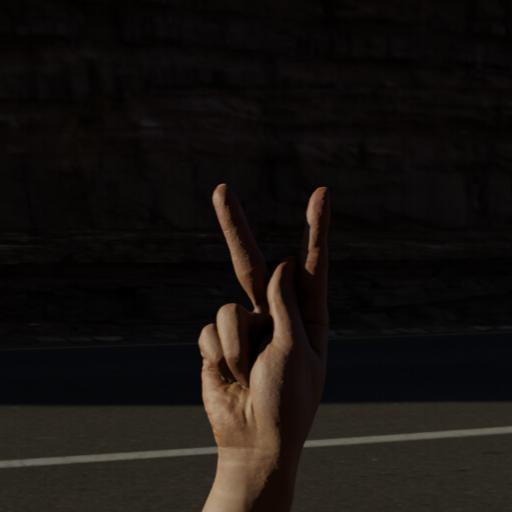K: (166, 171, 350, 512)
